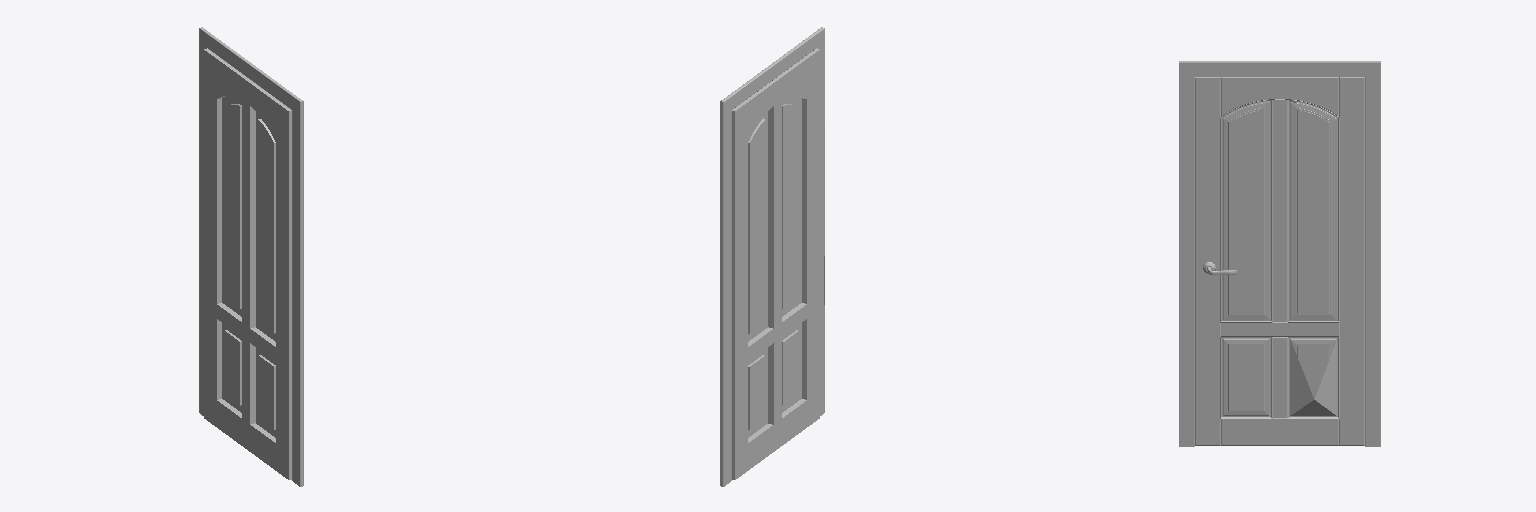
File: vrata1.obj
3 views of the same model, side by side, from view 1: azimuth 30°, elevation 25°; view 2: azimuth 150°, elevation 25°; view 3: azimuth 270°, elevation 25° (orthographic).
Size of the model in its own units: 26.93 by 512 by 244.